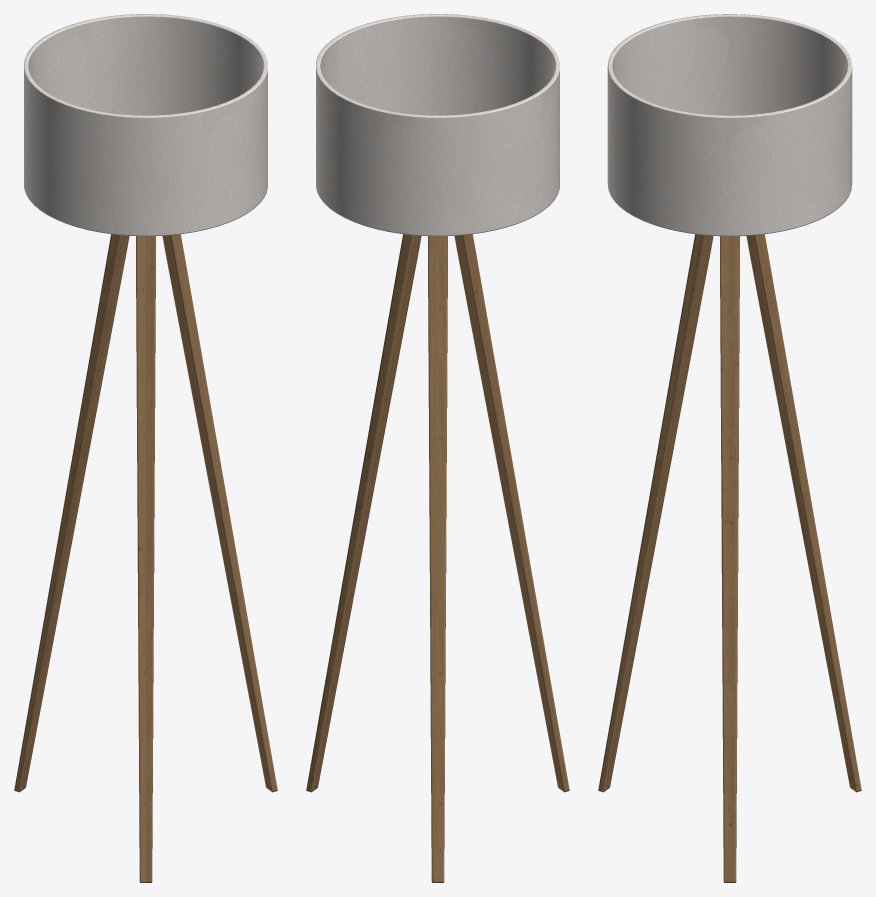
File: Floorlamp2.fbx
3 renders of one model, left to right at view 1: azimuth 30°, elevation 25°; view 2: azimuth 150°, elevation 25°; view 3: azimuth 270°, elevation 25°, orthographic.
Parts seen in each view (by area): view 1: SM_Floorlamp2_01; view 2: SM_Floorlamp2_01; view 3: SM_Floorlamp2_01.
Boxes of the visible parts, x1,y1,x2,y2 form: SM_Floorlamp2_01: (14,14,277,882); SM_Floorlamp2_01: (306,14,569,882); SM_Floorlamp2_01: (598,14,861,882).
Size of the model in its own units: 48.89 by 150 by 47.59.
